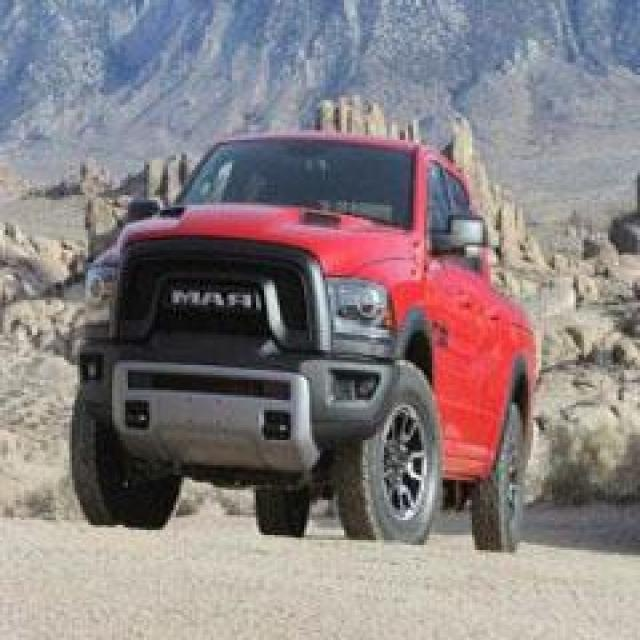car: (34, 109, 570, 554)
